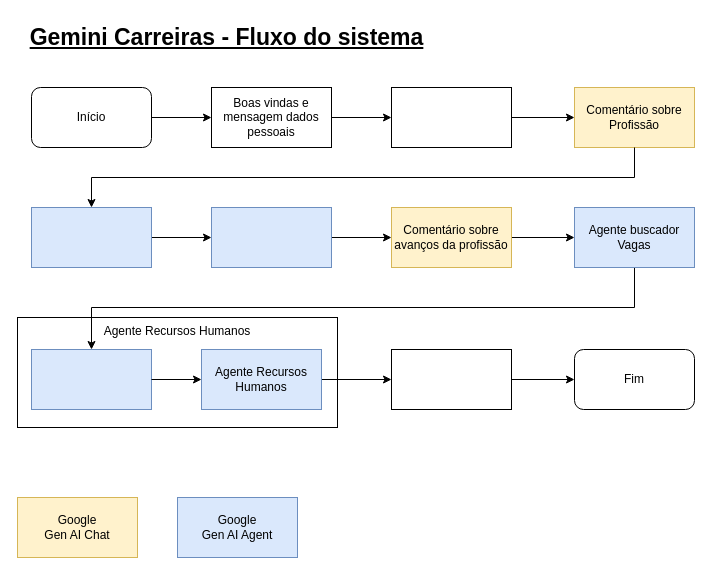
Image size: 712x575. Some labels were removed from this diagram. Here are the shapes that lost their labels. From the top down, the centre of each, then its label:
point 451,117: Coleta de informações
point 91,237: Agente Tradução
point 271,237: Agente Proteção Dados (LGPD)
point 91,379: Agente Buscador Cursos
point 451,379: Apresentação da análise
